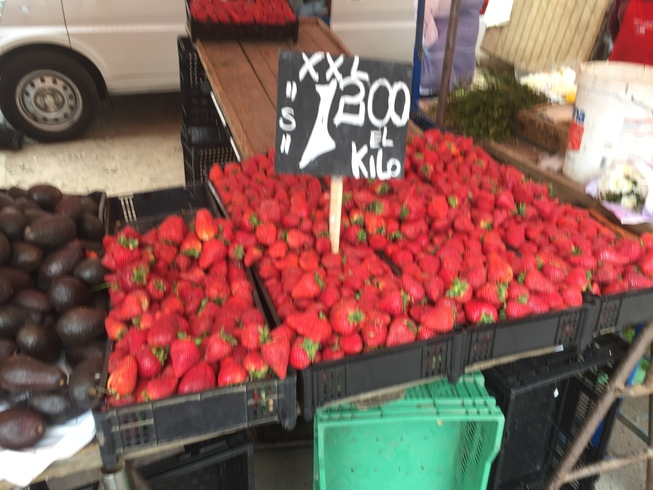precio: (265, 43, 419, 194)
